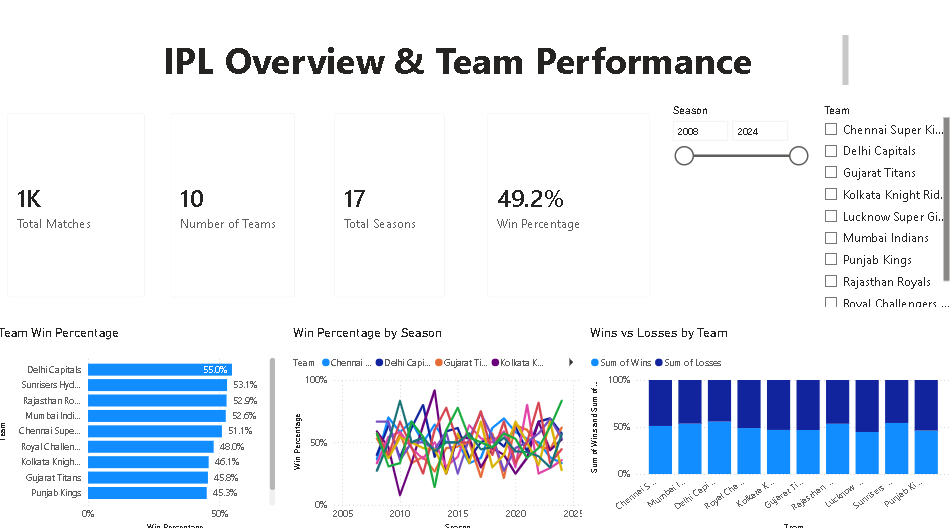

This screenshot's page, from the dashboard's own definition file:
{"tool":"powerbi","page":{"name":"Dashboard 1 - Team Performance","canvas":[1280,720],"ordinal":0},"visuals":[{"type":"cardVisual","fields":{"Data":["IPL_Matches.Total Matches"]},"box":[0,140,218,280],"z":0},{"type":"cardVisual","fields":{"Data":["DimTeam.Number of Teams"]},"box":[218,140,200,280],"z":1},{"type":"cardVisual","fields":{"Data":["DimSeason.Total Seasons"]},"box":[436,140,182,280],"z":2},{"type":"cardVisual","fields":{"Data":["Team_Performance.Win Percentage"]},"box":[640,140,252,280],"z":3},{"type":"clusteredBarChart","title":"Team Win Percentage","fields":{"Category":["DimTeam.Team"],"Y":["Team_Performance.Win Percentage"]},"box":[0,440.3,379.8,279.7],"z":4},{"type":"lineChart","title":"Win Percentage by Season","fields":{"Category":["DimSeason.Season"],"Y":["Team_Performance.Win Percentage"],"Series":["DimTeam.Team"]},"box":[395,440.3,395,279.7],"z":5},{"type":"hundredPercentStackedColumnChart","title":"Wins vs Losses by Team","fields":{"Category":["Team_Performance.Team"],"Y":["Sum(Team_Performance.Wins)","Sum(Team_Performance.Losses)"]},"box":[789.9,440.3,489.5,279.7],"z":6},{"type":"slicer","fields":{"Values":["DimSeason.Season"]},"box":[892,140,202.2,279.7],"z":7},{"type":"slicer","fields":{"Values":["DimTeam.Team"]},"box":[1094.2,139.8,185,280],"z":8},{"type":"textbox","box":[100,48,1044,92],"z":9}]}

Visuals, with their boxes in screenshot pixels (x1, y1, x2, y2), scaled from the page's 1280x720 canvas onto the 951x528 screenshot:
cardVisual - IPL_Matches.Total Matches: bbox=[0, 103, 162, 308]
cardVisual - DimTeam.Number of Teams: bbox=[162, 103, 311, 308]
cardVisual - DimSeason.Total Seasons: bbox=[324, 103, 459, 308]
cardVisual - Team_Performance.Win Percentage: bbox=[476, 103, 663, 308]
"Team Win Percentage" clusteredBarChart: bbox=[0, 323, 282, 527]
"Win Percentage by Season" lineChart: bbox=[293, 323, 587, 527]
"Wins vs Losses by Team" hundredPercentStackedColumnChart: bbox=[587, 323, 950, 527]
slicer - DimSeason.Season: bbox=[663, 103, 813, 308]
slicer - DimTeam.Team: bbox=[813, 103, 950, 308]
textbox: bbox=[74, 35, 850, 103]
